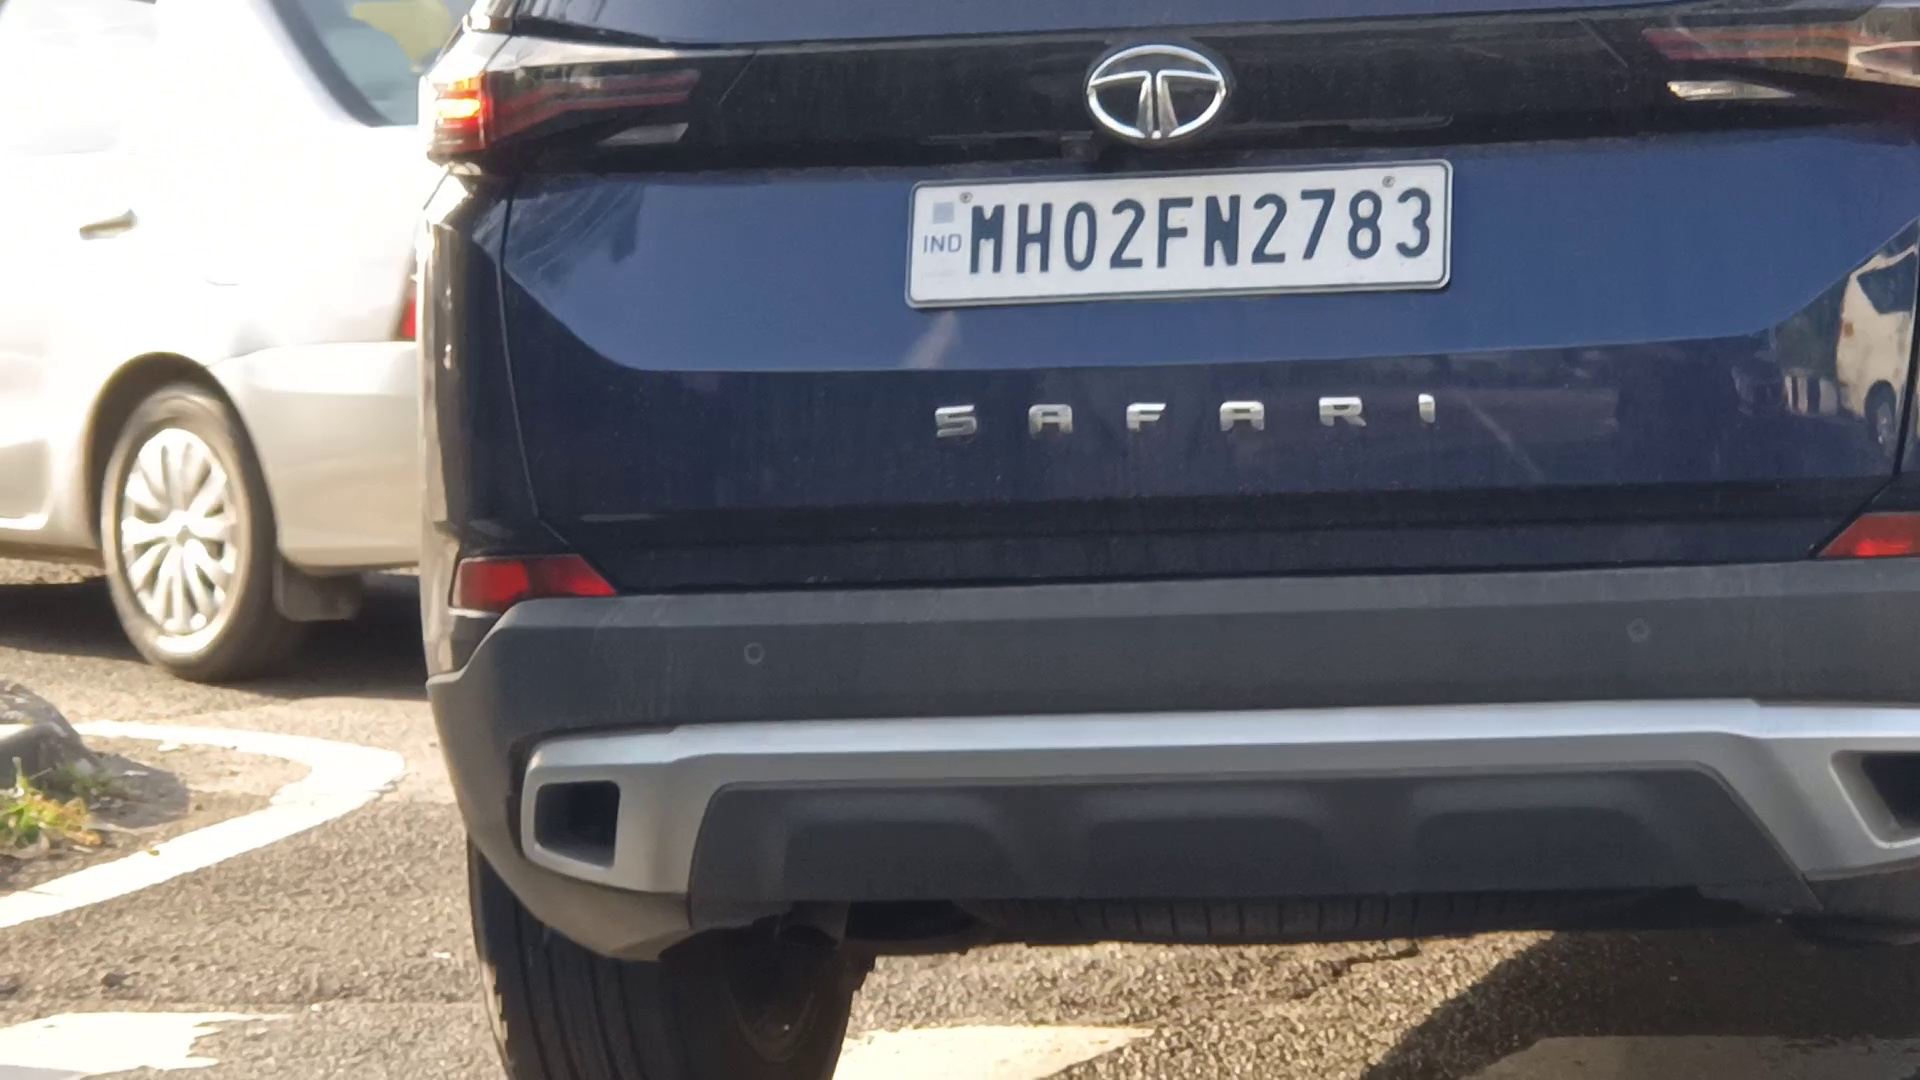MH02FN2783: (904, 159, 1457, 313)
